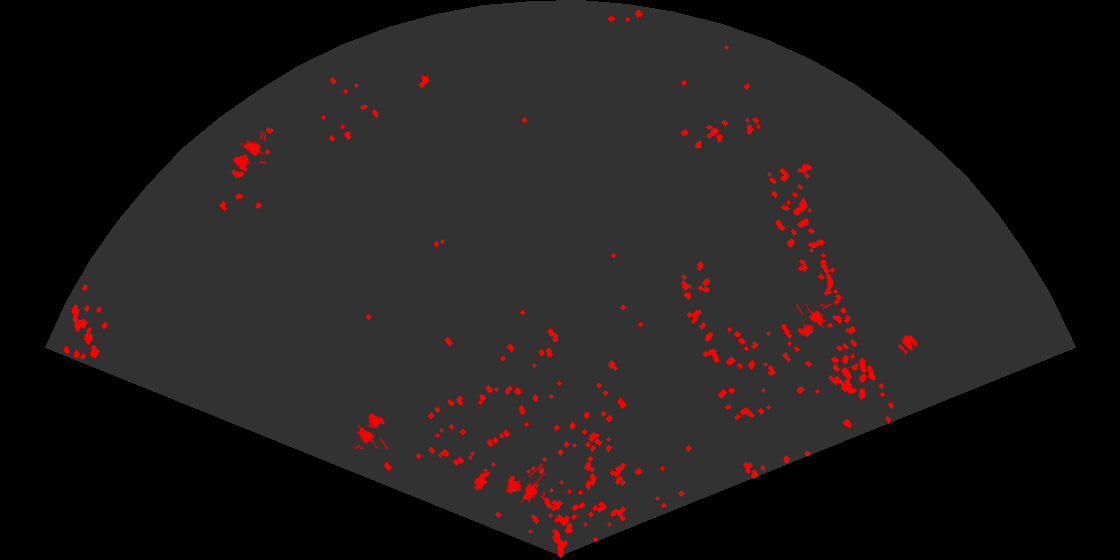AUV: (472, 470, 492, 492)
ball: (897, 334, 919, 356)
cage: (504, 464, 545, 505), (231, 131, 266, 174), (352, 412, 390, 449), (794, 304, 834, 339)
